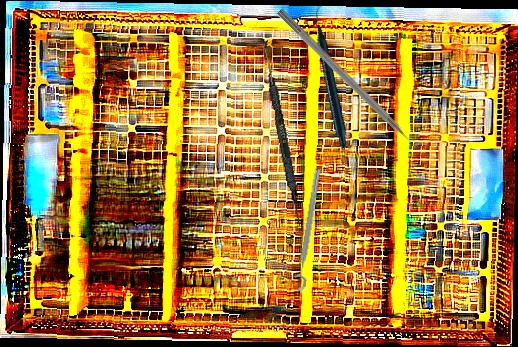Fixation Ring: (285, 166, 325, 293)
Handpiece: (267, 3, 398, 151)
Pusher: (274, 7, 427, 160)
Spatula Surgical: (257, 40, 307, 227)
